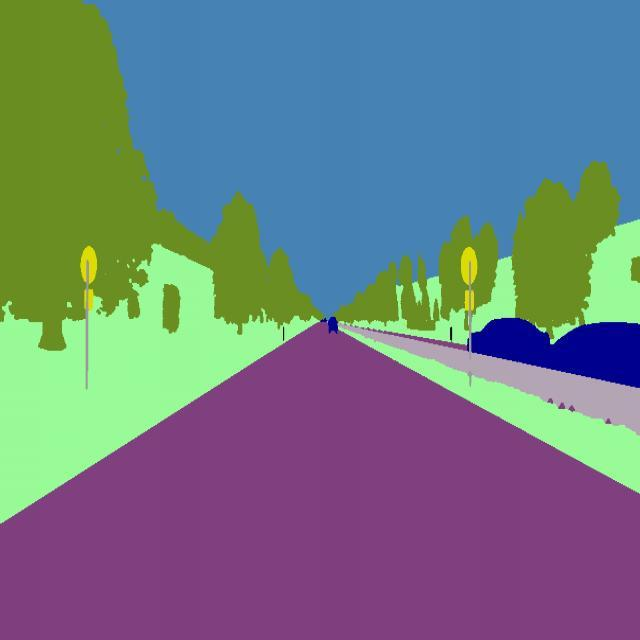safe: (550, 319, 640, 387), (468, 314, 552, 369), (328, 315, 339, 338)
